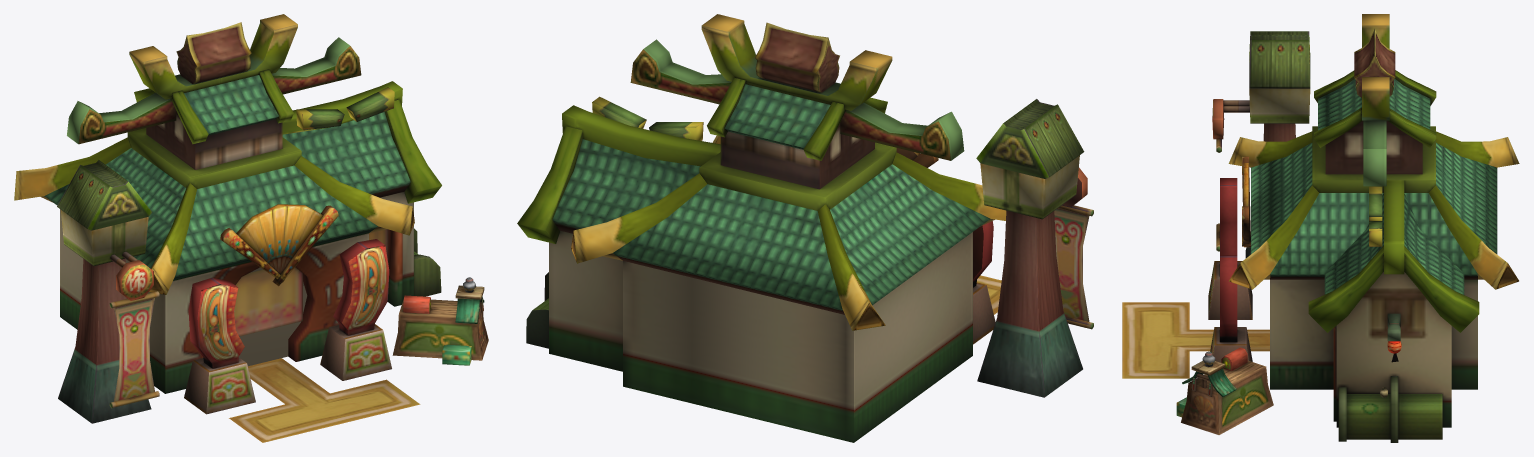
The model's file is nhatho.obj.
3 views of the same model, side by side, from view 1: azimuth 30°, elevation 25°; view 2: azimuth 150°, elevation 25°; view 3: azimuth 270°, elevation 25° (orthographic). The views are drawn at different scales.
Visible parts, largest first — view 1: 001, 002; view 2: 001, 002; view 3: 001, 002.
Boxes of the visible parts, x1,y1,x2,y2 form: 001: [14, 14, 441, 393]; 002: [57, 160, 488, 442]; 001: [517, 14, 1006, 442]; 002: [526, 99, 1093, 397]; 001: [1228, 14, 1519, 427]; 002: [1122, 31, 1442, 442].
Bounding box in the file's own units: 57 × 40.78 × 49.14.
Materials: 2 (2 with a texture image).
